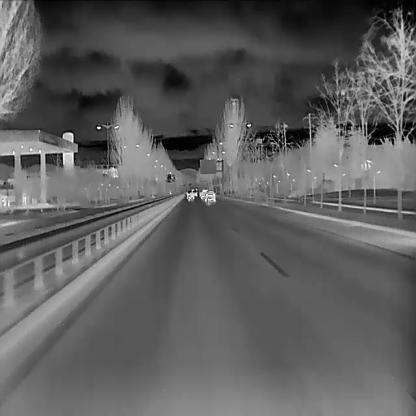car: (204, 188, 215, 202), (185, 189, 194, 199), (200, 187, 208, 198), (192, 188, 197, 196)
